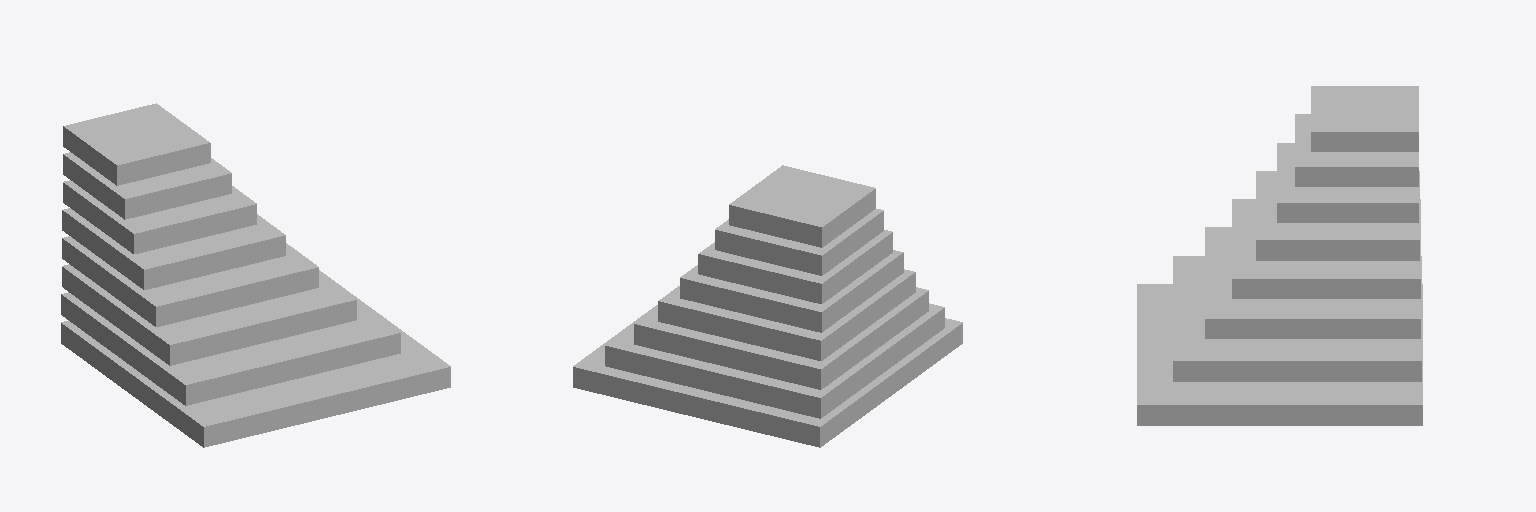
File: Stair.obj
3 views of the same model, side by side, from view 1: azimuth 30°, elevation 25°; view 2: azimuth 150°, elevation 25°; view 3: azimuth 270°, elevation 25° (orthographic).
Visible parts, largest first — view 1: Cube.001; view 2: Cube.001; view 3: Cube.001.
Part boxes in pixels (x1,y1,x2,y2): Cube.001: (61,103,450,447); Cube.001: (573,165,962,447); Cube.001: (1137,86,1422,425).
Bounding box in the file's own units: 10 × 8.43 × 10.